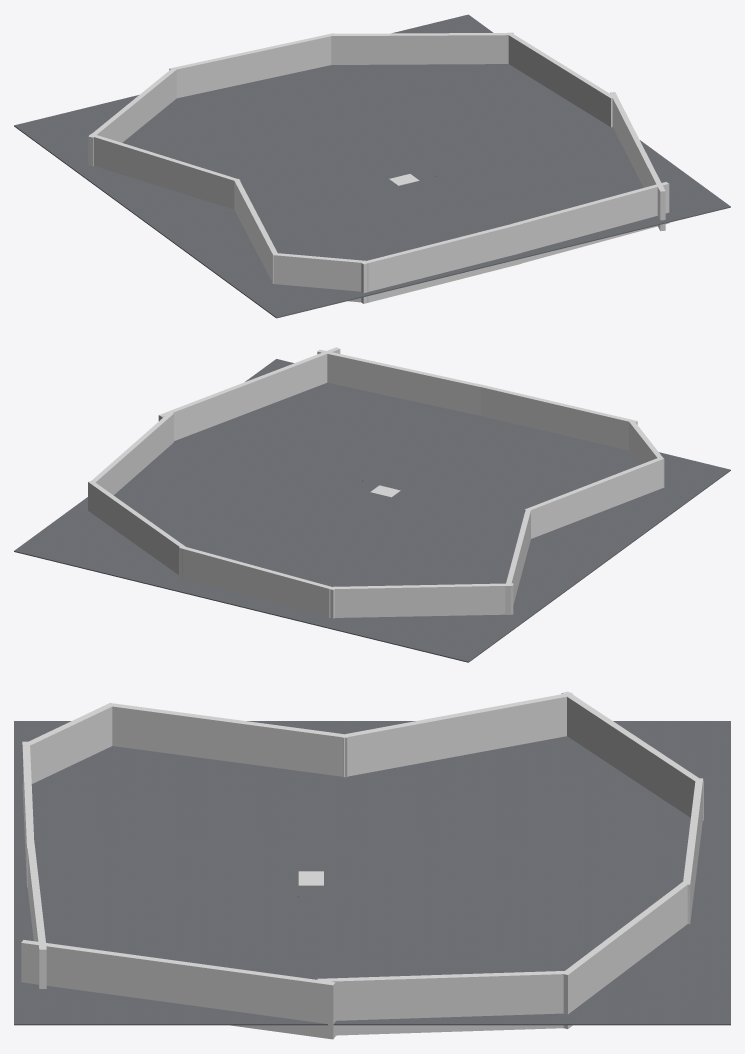
Rendered from lawn.glb.
3 views of the same model, one above another, from view 1: azimuth 30°, elevation 25°; view 2: azimuth 150°, elevation 25°; view 3: azimuth 270°, elevation 25° (orthographic). The views are drawn at different scales.
Visible parts, largest first — view 1: BoxGround, Box.008, Box.004, Box.009, Box.006, Box.003, Box.007, Box, Box.002, Box.010, Box.001; view 2: BoxGround, Box.002, Box.010, Box.006, Box.009, Box.008, Box.001, Box.004, Box.007, Box.003, Box; view 3: BoxGround, Box.010, Box.007, Box.001, Box.003, Box.002, Box.004, Box, Box.009, Box.006, Box.008.
Part boxes in pixels (left/top/right/bottom): BoxGround: left=14, top=14, right=730, bottom=318; Box.008: left=361, top=222, right=521, bottom=303; Box.004: left=329, top=32, right=513, bottom=64; Box.009: left=513, top=182, right=669, bottom=263; Box.006: left=169, top=33, right=333, bottom=98; Box.003: left=88, top=134, right=240, bottom=209; Box.007: left=508, top=34, right=613, bottom=127; Box: left=272, top=253, right=368, bottom=302; Box.002: left=88, top=67, right=177, bottom=166; Box.010: left=610, top=92, right=665, bottom=231; Box.001: left=234, top=178, right=278, bottom=283; BoxGround: left=14, top=359, right=730, bottom=662; Box.002: left=329, top=583, right=513, bottom=617; Box.010: left=158, top=347, right=340, bottom=440; Box.006: left=179, top=546, right=335, bottom=618; Box.009: left=317, top=349, right=480, bottom=415; Box.008: left=474, top=383, right=637, bottom=450; Box.001: left=524, top=458, right=664, bottom=538; Box.004: left=88, top=480, right=185, bottom=577; Box.007: left=91, top=412, right=173, bottom=495; Box.003: left=505, top=508, right=530, bottom=614; Box: left=629, top=420, right=663, bottom=487; BoxGround: left=14, top=721, right=730, bottom=1025; Box.010: left=21, top=940, right=335, bottom=1039; Box.007: left=317, top=970, right=568, bottom=1035; Box.001: left=109, top=703, right=348, bottom=777; Box.003: left=342, top=692, right=573, bottom=777; Box.002: left=561, top=691, right=703, bottom=820; Box.004: left=563, top=882, right=688, bottom=1028; Box: left=22, top=702, right=115, bottom=784; Box.009: left=27, top=843, right=46, bottom=988; Box.006: left=683, top=778, right=703, bottom=923; Box.008: left=22, top=741, right=34, bottom=887.
Bounding box in the file's own units: 962 × 80 × 960.
2 materials, 2 textured.
